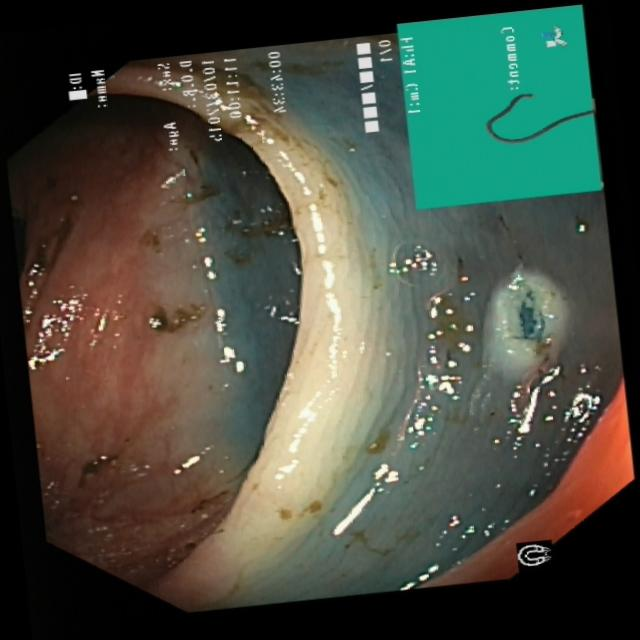dyed-resection-margins: (465, 258, 593, 396), (126, 292, 210, 348), (223, 201, 300, 253)
